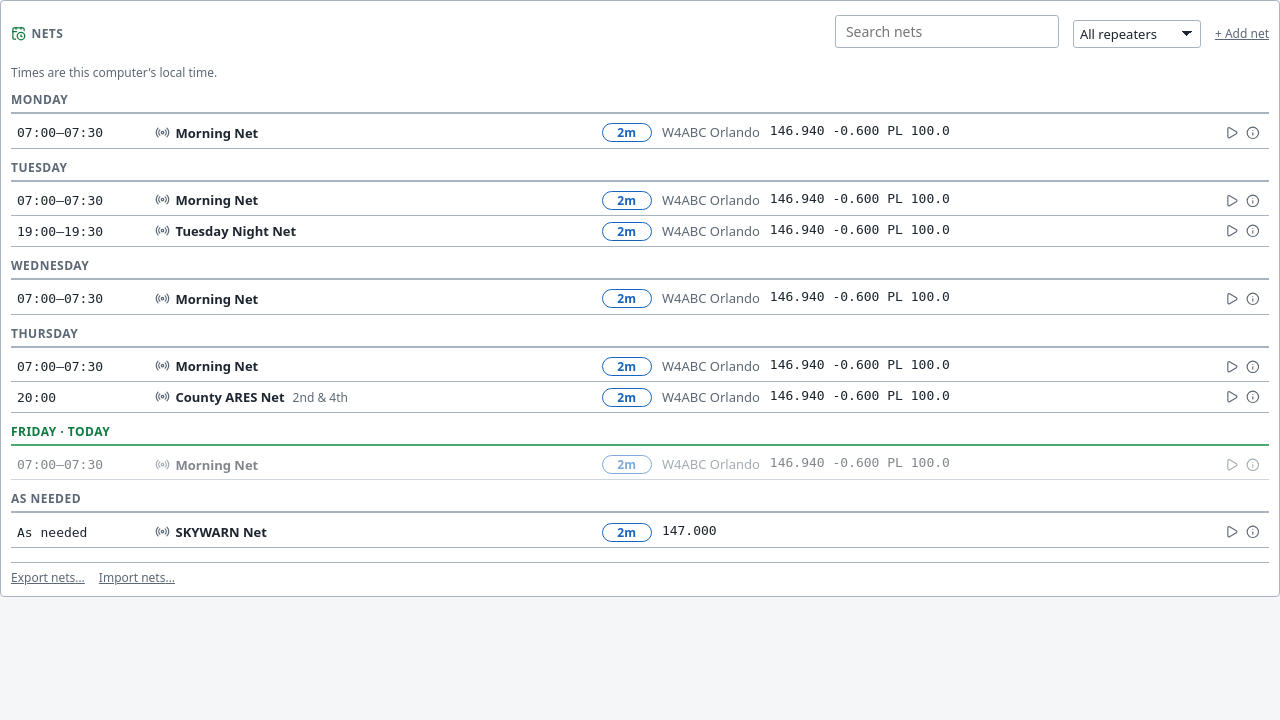
NetsTab › shows each meeting on a line, the rest behind ⓘ (NETL-021)
Expected: the text "19:00–19:30" is shown, x1=17 y1=224 x2=103 y2=239
Expected: the text "W4ABC Orlando" in the row of "Tuesday Night Net" is shown, x1=662 y1=222 x2=760 y2=240
What coordinates should you click on to do the following:
click the button named "Show details of Tuesday Night Net"
I would click on:
 (1253, 231)
Its box is x1=1243 y1=221 x2=1263 y2=241.
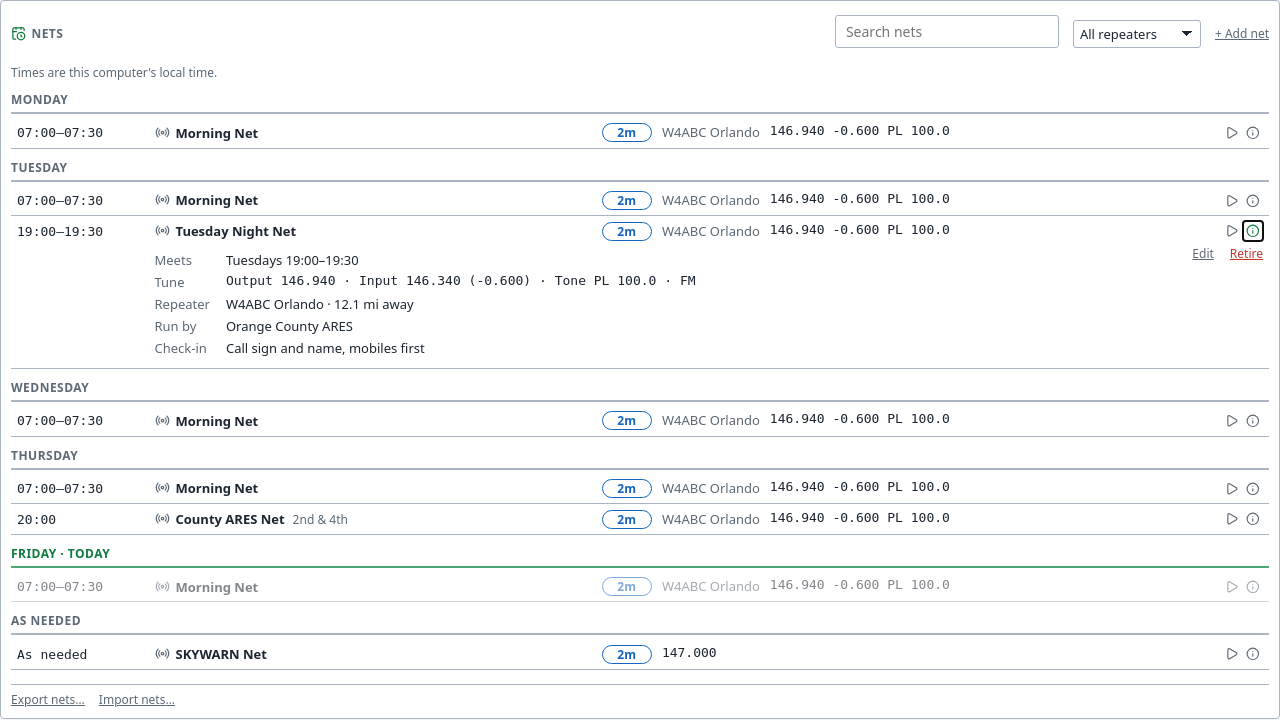
Now the text "Tuesdays 19:00–19:30" is shown, box x1=226 y1=251 x2=359 y2=269
Now the text "Output 146.940 · Input 146.340 (-0.600) · Tone PL 100.0 · FM" is shown, box x1=226 y1=273 x2=696 y2=291
Now the text "W4ABC Orlando · 12.1 mi away" is shown, box x1=226 y1=295 x2=414 y2=313
